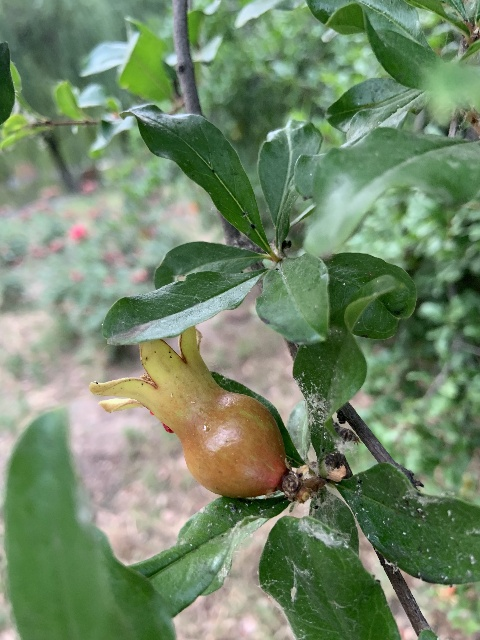early-fruit: (89, 325, 286, 499)
